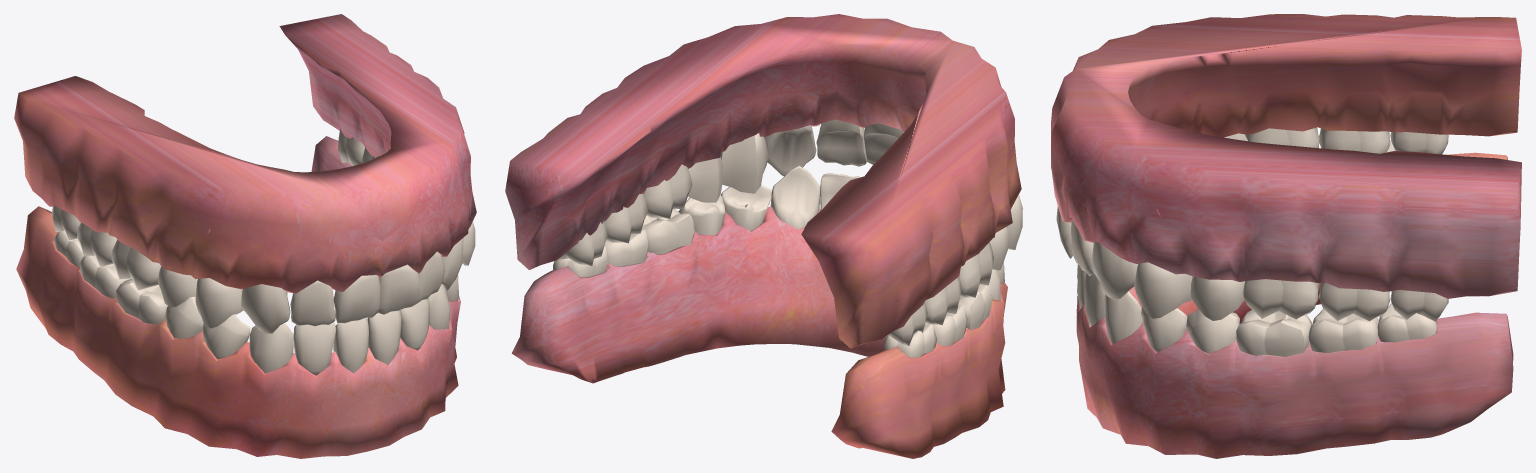
The model's file is Dental Anatomy.fbx.
The picture shows the model from 3 angles, left to right: view 1: azimuth 30°, elevation 25°; view 2: azimuth 150°, elevation 25°; view 3: azimuth 270°, elevation 25°; orthographic projection. The views are drawn at different scales.
Visible parts, largest first — view 1: gum_up, gum_down, 06_canine, 26_lateral_incisor, 05_first_premolar, 08_central_incisor, 07_lateral_incisor, 27_canine, 09_central_incisor, 30_first_molar, 25_central_incisor, 03_first_molar (+13 smaller); view 2: gum_up, gum_down, 22_canine, 12_first_premolar, 10_lateral_incisor, 11_canine, 19_first_molar, 14_first_molar, 21_first_premolar, 13_second_premolar, 15_second_molar, 03_first_molar (+13 smaller); view 3: gum_up, gum_down, 19_first_molar, 14_first_molar, 12_first_premolar, 18_second_molar, 15_second_molar, 13_second_premolar, 11_canine, 20_second_premolar, 17_third_molar, 02_second_molar (+7 smaller).
Part boxes in pixels (bbox=[...]): gum_up: bbox=[14, 14, 476, 293]; gum_down: bbox=[16, 136, 460, 458]; 06_canine: bbox=[241, 284, 290, 333]; 26_lateral_incisor: bbox=[293, 322, 336, 375]; 05_first_premolar: bbox=[195, 278, 243, 328]; 08_central_incisor: bbox=[333, 275, 380, 323]; 07_lateral_incisor: bbox=[290, 280, 335, 326]; 27_canine: bbox=[249, 323, 293, 373]; 09_central_incisor: bbox=[378, 264, 420, 314]; 30_first_molar: bbox=[116, 278, 167, 324]; 25_central_incisor: bbox=[333, 317, 368, 372]; 03_first_molar: bbox=[111, 240, 160, 290]; gum_up: bbox=[505, 14, 1021, 348]; gum_down: bbox=[511, 206, 1007, 458]; 22_canine: bbox=[770, 165, 820, 229]; 12_first_premolar: bbox=[720, 133, 768, 193]; 10_lateral_incisor: bbox=[816, 119, 866, 166]; 11_canine: bbox=[764, 125, 816, 176]; 19_first_molar: bbox=[641, 208, 695, 254]; 14_first_molar: bbox=[643, 164, 692, 218]; 21_first_premolar: bbox=[720, 185, 771, 230]; 13_second_premolar: bbox=[688, 157, 722, 202]; 15_second_molar: bbox=[603, 193, 647, 243]; 03_first_molar: bbox=[959, 242, 993, 297]; gum_up: bbox=[1051, 14, 1521, 298]; gum_down: bbox=[1076, 152, 1513, 458]; 19_first_molar: bbox=[1236, 310, 1311, 356]; 14_first_molar: bbox=[1242, 279, 1319, 319]; 12_first_premolar: bbox=[1134, 262, 1192, 318]; 18_second_molar: bbox=[1308, 309, 1378, 352]; 15_second_molar: bbox=[1318, 283, 1389, 321]; 13_second_premolar: bbox=[1190, 276, 1244, 320]; 11_canine: bbox=[1092, 241, 1138, 300]; 20_second_premolar: bbox=[1186, 309, 1239, 353]; 17_third_molar: bbox=[1377, 303, 1437, 342]; 02_second_molar: bbox=[1319, 128, 1389, 153].
Bounding box in the file's own units: 304 × 231 × 321.
Materials: 2 (1 with a texture image).
